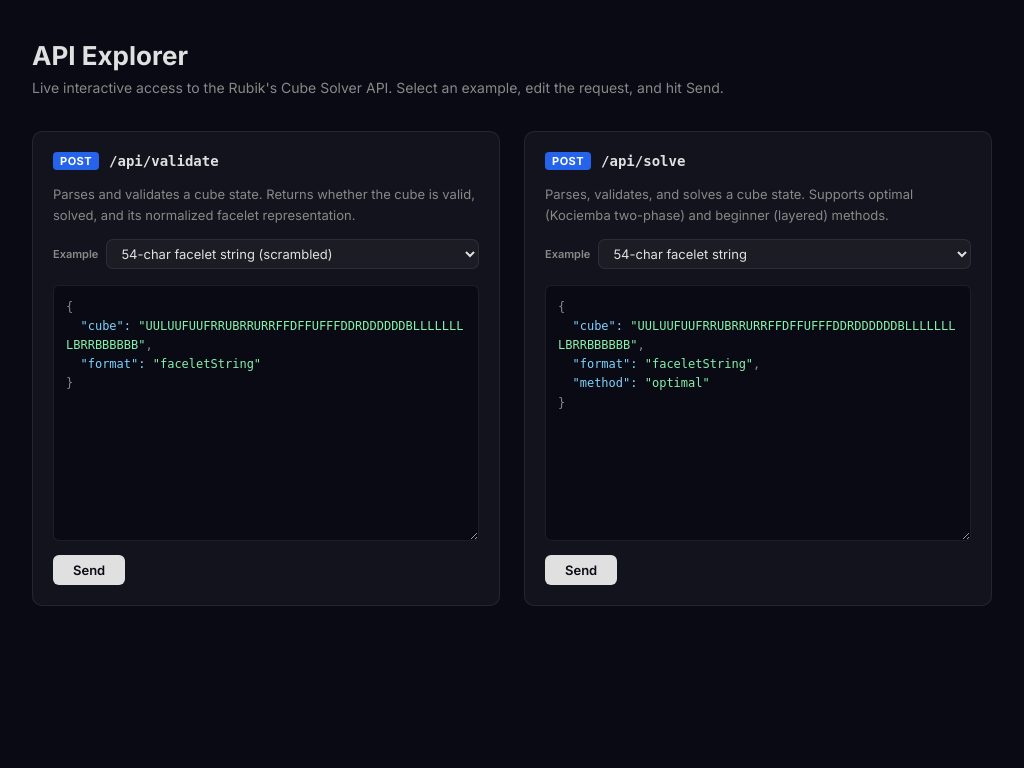
ApiExplorerPage › sends validate request and shows response
Click the 1st button "Send".
click(89, 570)  # box [53, 555, 125, 585]
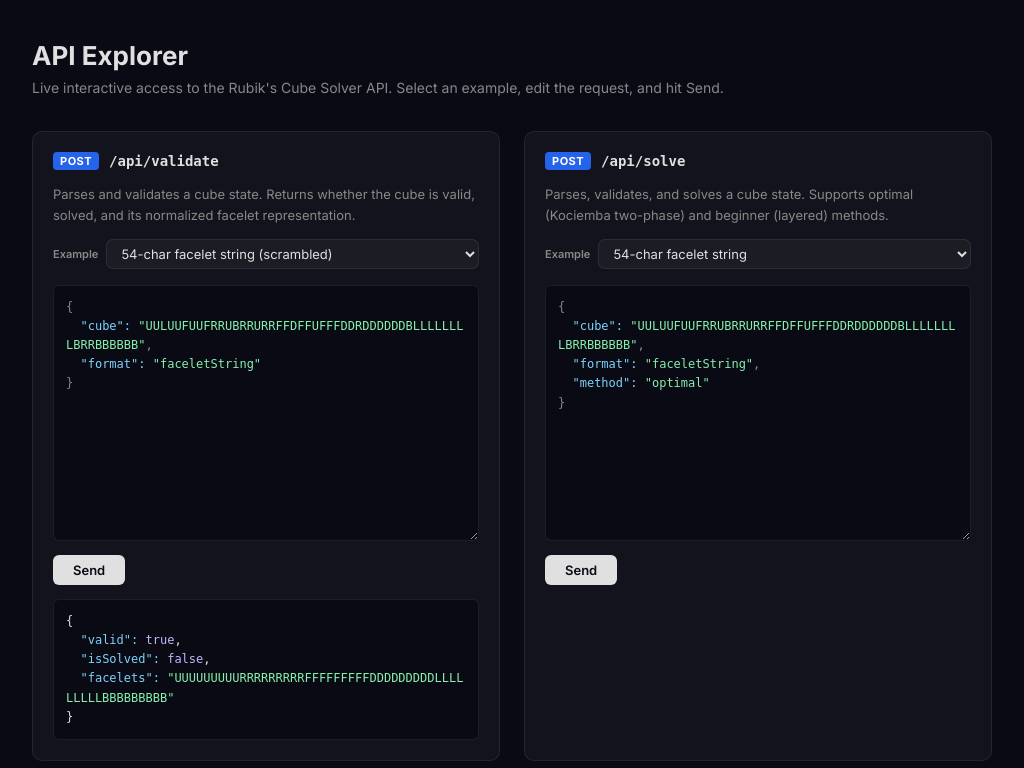
Expected: the text "\"valid\":" is shown, [80, 633, 138, 647]
